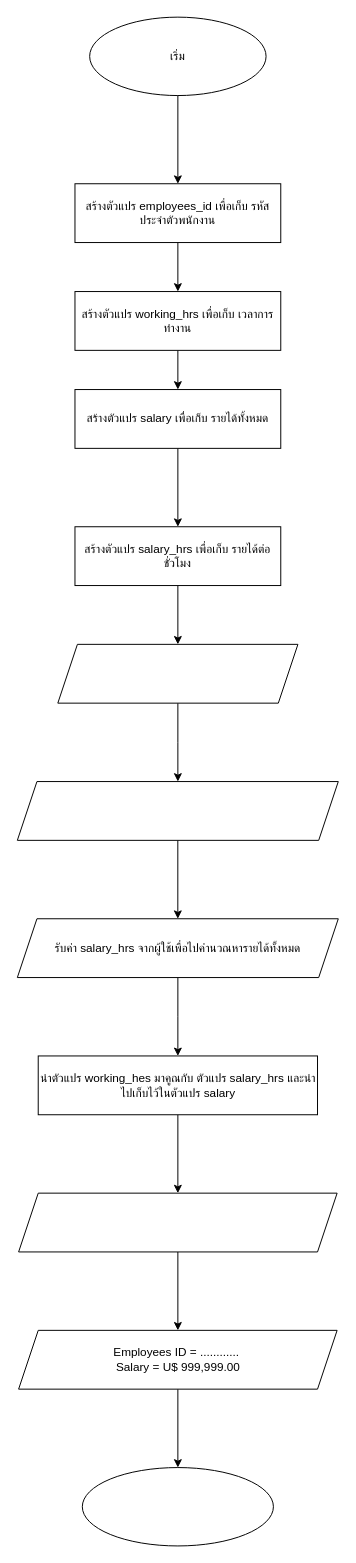
Image size: 356x1563. Some labels were removed from this diagram. The shapes that lost their labels are listed below. From the top down, each one's box as (x1, y1, x2, y2) in pixels, then its label:
(57, 643, 298, 703): รับค่า employees_id จากผู้ใช้
(16, 781, 338, 840): รับค่า working_hrs จากผู้ใช้เพื่อไปคำนวณหารายได้ทั้งหมด
(18, 1192, 337, 1252): แสดงผล ตัวแปรempolyees_id และ salary
(81, 1467, 273, 1546): จบ
